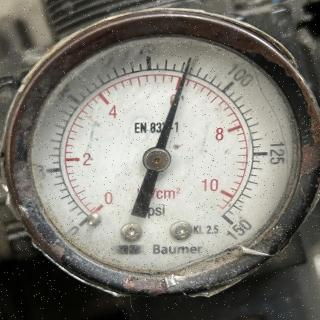gauge: (0, 0, 320, 320), (65, 187, 117, 243), (212, 201, 241, 237), (141, 146, 171, 173), (183, 52, 195, 68)
